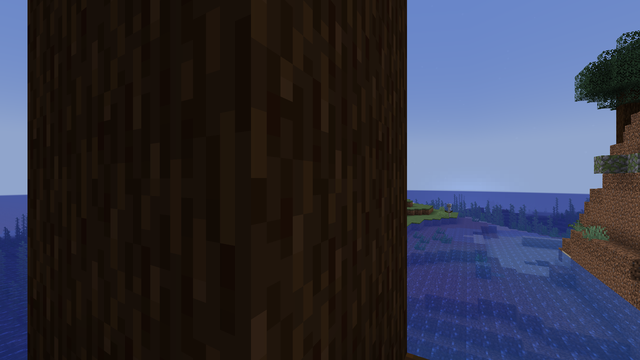squelettes: (447, 203, 451, 216)
